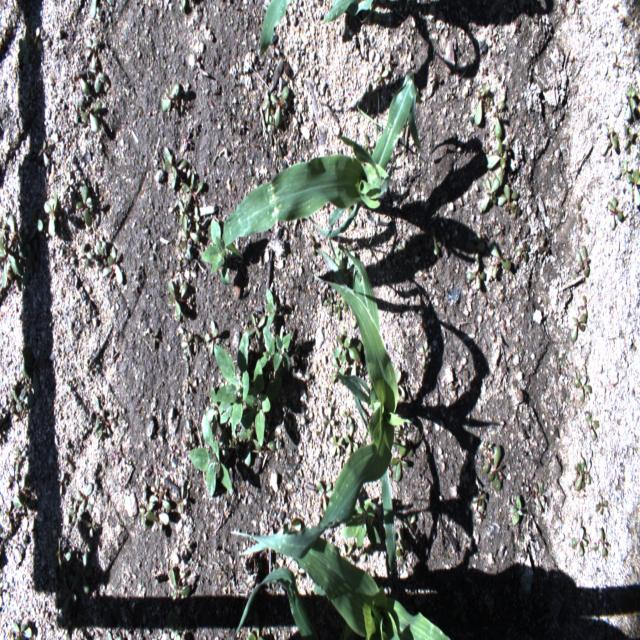crop: (295, 244, 415, 571), (224, 72, 422, 264), (231, 534, 465, 638), (232, 566, 320, 639), (256, 0, 291, 57), (324, 0, 407, 24)
weed: (215, 335, 270, 443), (188, 414, 232, 497), (202, 218, 243, 282), (341, 500, 381, 548), (260, 325, 291, 377), (353, 92, 382, 146), (208, 388, 233, 442), (481, 448, 506, 492), (81, 80, 101, 132), (22, 344, 40, 400), (332, 332, 361, 364), (167, 278, 189, 320), (101, 248, 123, 287), (479, 176, 502, 213), (73, 553, 93, 592), (170, 564, 190, 603), (465, 250, 485, 287), (7, 215, 24, 258), (44, 184, 58, 236), (485, 143, 511, 171), (182, 173, 204, 206), (489, 245, 511, 278), (366, 224, 384, 263), (52, 536, 72, 571), (391, 445, 408, 484), (76, 184, 92, 225), (230, 428, 260, 449), (272, 86, 288, 125), (94, 412, 117, 439), (498, 187, 520, 215), (14, 386, 37, 412), (474, 86, 489, 124), (161, 82, 180, 111), (22, 254, 40, 284), (314, 479, 332, 509), (180, 216, 192, 259), (494, 99, 506, 142), (608, 198, 624, 230), (599, 124, 617, 152), (584, 411, 600, 442), (76, 485, 93, 514), (571, 526, 588, 555), (148, 487, 170, 509), (265, 291, 278, 328), (344, 422, 359, 454), (204, 321, 218, 355), (246, 314, 264, 340), (532, 478, 548, 507), (428, 226, 443, 256), (164, 146, 178, 178), (576, 245, 590, 277), (624, 84, 636, 121), (0, 234, 8, 288), (510, 493, 523, 526), (63, 579, 77, 607), (85, 38, 98, 68), (7, 252, 22, 278), (174, 484, 187, 514), (322, 406, 335, 436), (628, 172, 639, 207), (13, 621, 34, 639), (470, 489, 488, 510), (27, 24, 42, 49), (78, 242, 92, 268), (571, 314, 586, 338), (9, 460, 20, 492), (375, 63, 389, 88), (517, 240, 531, 264), (19, 231, 37, 249), (178, 199, 190, 226), (340, 408, 354, 431), (28, 208, 42, 231), (576, 375, 590, 398), (330, 434, 342, 460), (67, 502, 81, 524), (140, 502, 154, 524), (397, 241, 412, 261), (575, 458, 584, 491), (576, 211, 590, 232), (418, 338, 428, 367), (598, 527, 608, 556), (625, 122, 634, 154), (146, 511, 168, 524), (83, 518, 98, 537), (72, 98, 82, 126), (398, 367, 406, 402), (596, 494, 610, 514), (168, 623, 185, 639), (38, 140, 48, 166), (180, 333, 193, 353), (406, 510, 416, 536), (64, 450, 75, 472), (273, 134, 284, 156), (246, 626, 263, 640), (363, 84, 372, 110), (0, 580, 8, 609), (152, 328, 161, 353), (66, 163, 78, 181), (182, 130, 192, 150), (324, 292, 334, 312), (95, 71, 104, 93), (284, 520, 300, 532), (6, 507, 14, 530), (60, 245, 74, 258), (97, 241, 107, 259), (585, 458, 591, 487), (621, 160, 631, 177), (12, 496, 26, 508), (568, 0, 580, 14), (197, 61, 208, 76), (496, 220, 507, 235), (264, 95, 270, 122), (396, 546, 404, 566), (167, 606, 176, 623), (364, 134, 372, 152), (195, 206, 200, 234), (336, 299, 343, 318), (190, 231, 199, 245), (482, 145, 491, 159), (612, 55, 618, 75), (21, 445, 29, 459), (18, 40, 23, 62), (59, 474, 64, 496), (188, 291, 194, 309), (14, 443, 20, 460), (21, 474, 27, 491), (65, 178, 74, 189), (536, 245, 550, 252), (90, 1, 96, 17), (180, 159, 188, 170), (267, 441, 275, 452), (24, 46, 29, 62), (376, 15, 381, 30), (583, 297, 588, 310), (181, 0, 185, 14), (171, 178, 175, 189)
